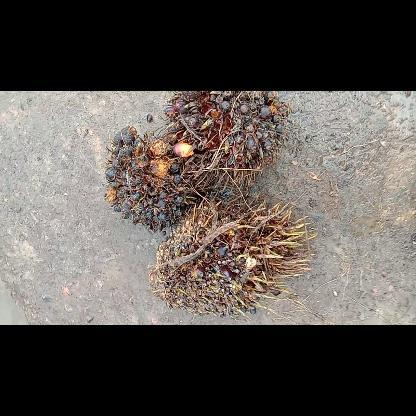TBS abnormal: (150, 195, 316, 316), (164, 92, 288, 188), (104, 125, 196, 231)
